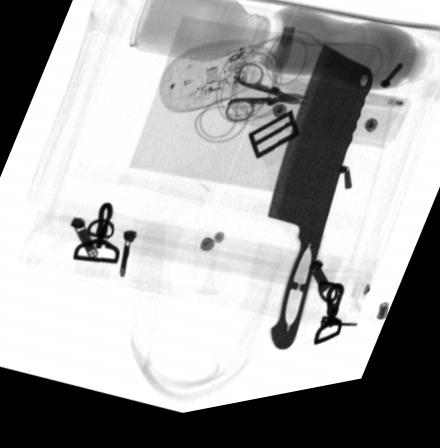Knife: (268, 55, 374, 361)
Scissors: (224, 71, 312, 133)
